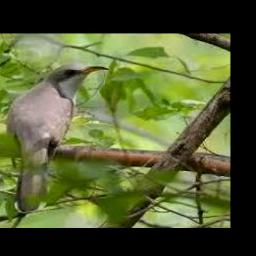Cuckoo: (7, 64, 108, 211)
